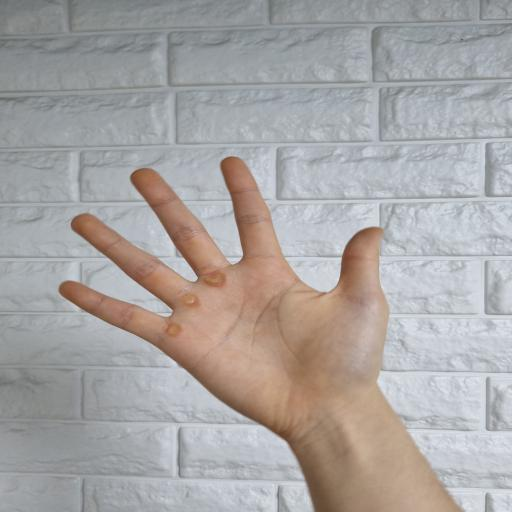Paper: (57, 158, 389, 444)
